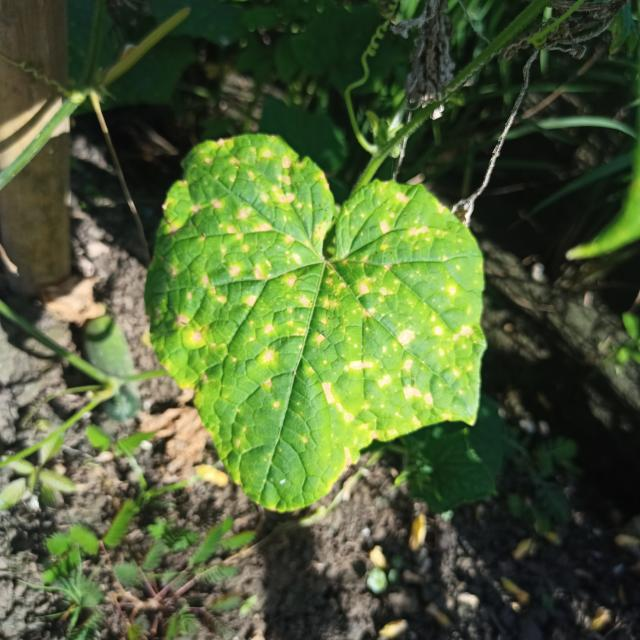disease_cucumber: (156, 141, 477, 492)
